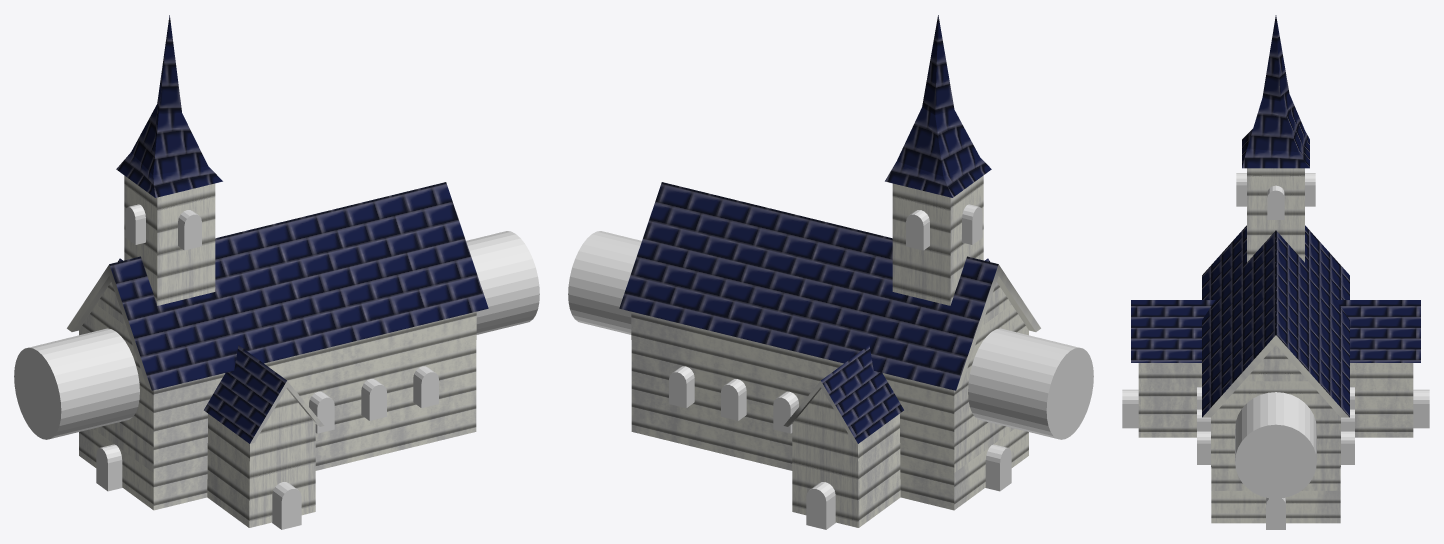
Rendered from church.glb.
3 views of the same model, side by side, from view 1: azimuth 30°, elevation 25°; view 2: azimuth 150°, elevation 25°; view 3: azimuth 270°, elevation 25° (orthographic). The views are drawn at different scales.
Visible parts, largest first — view 1: Church, Cylinder.002; view 2: Church, Cylinder.002; view 3: Church, Cylinder.002.
Part boxes in pixels (bbox=[...]): Church: bbox=[67, 15, 488, 527]; Cylinder.002: bbox=[14, 204, 539, 529]; Church: bbox=[619, 15, 1040, 527]; Cylinder.002: bbox=[568, 204, 1093, 529]; Church: bbox=[1131, 15, 1420, 523]; Cylinder.002: bbox=[1122, 173, 1429, 529].
Size of the model in its own units: 7.4 by 6.75 by 4.75.
5 materials, 4 textured.
